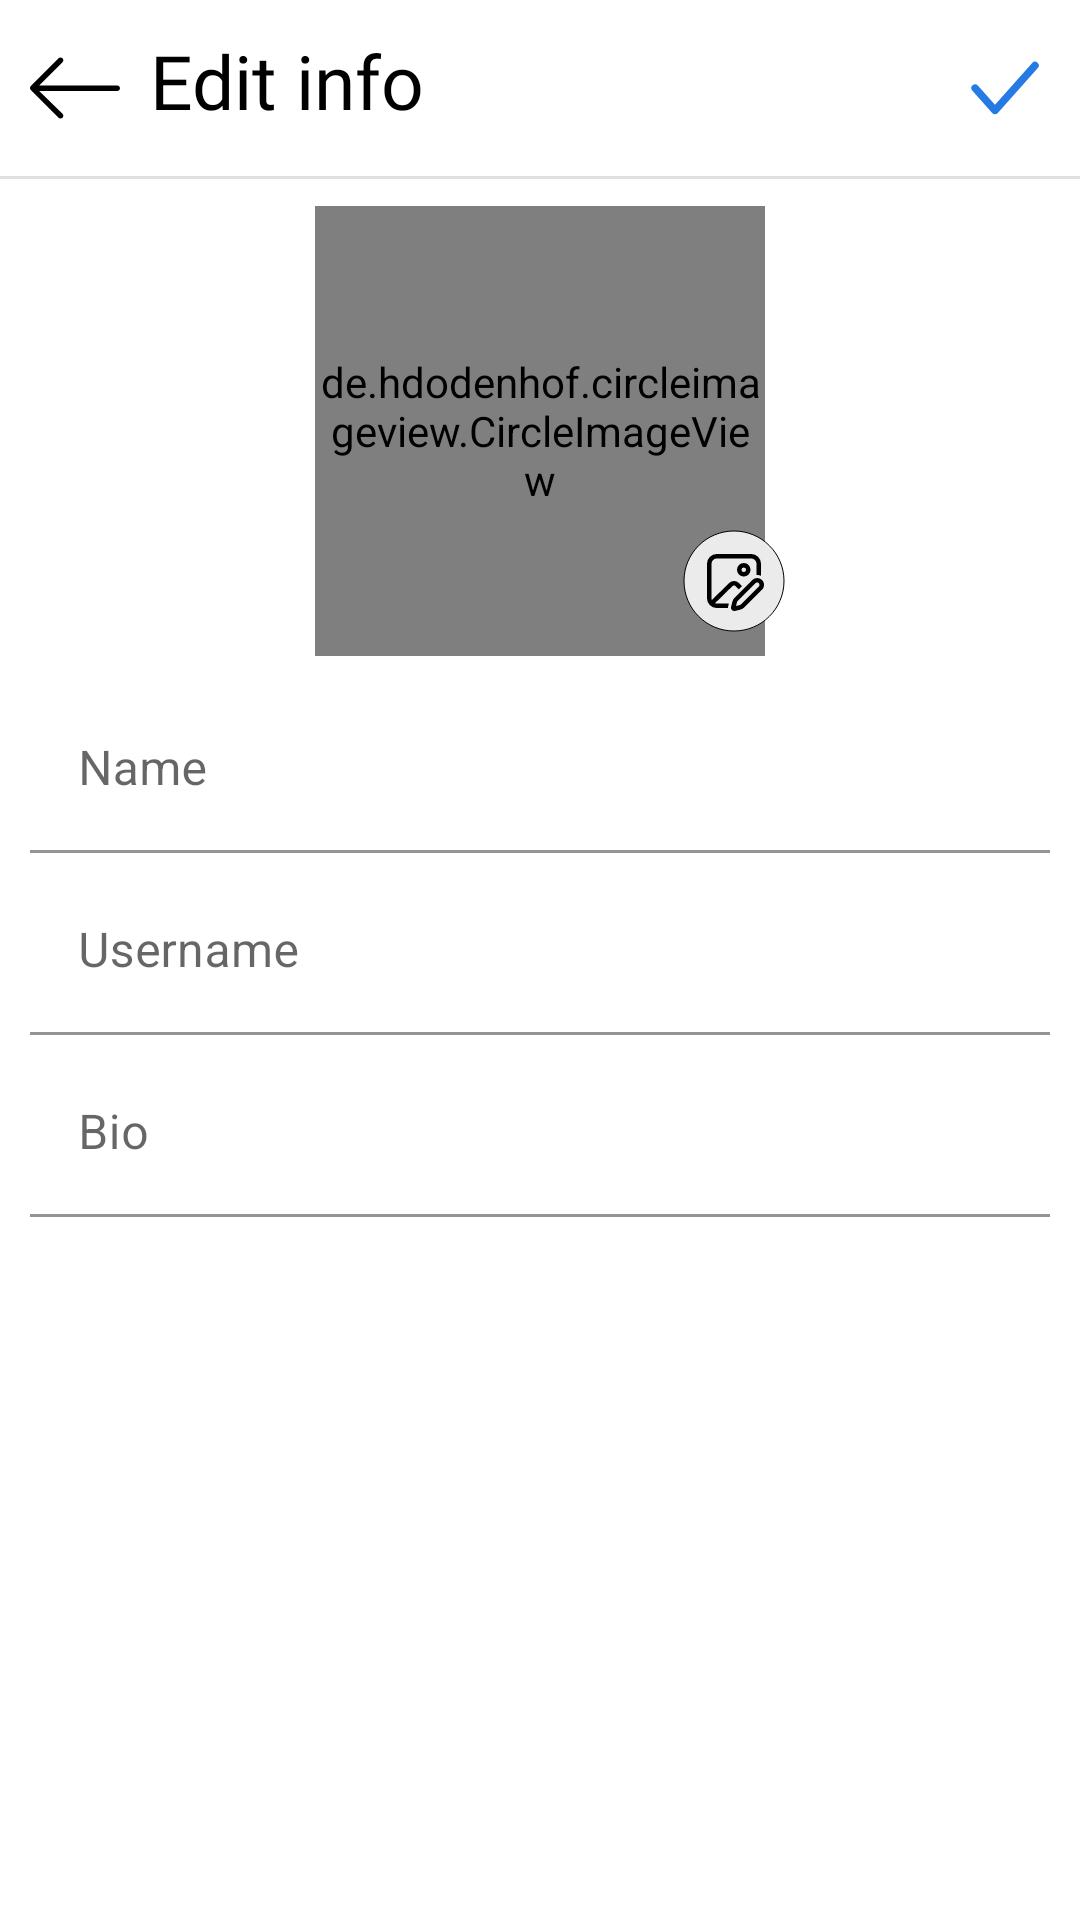

Point at icon controls on the screen. Image size 1080px x 1920px, points as (x=x, y=y).
back: (x=75, y=88)
check: (x=1005, y=88)
edit: (x=738, y=581)
